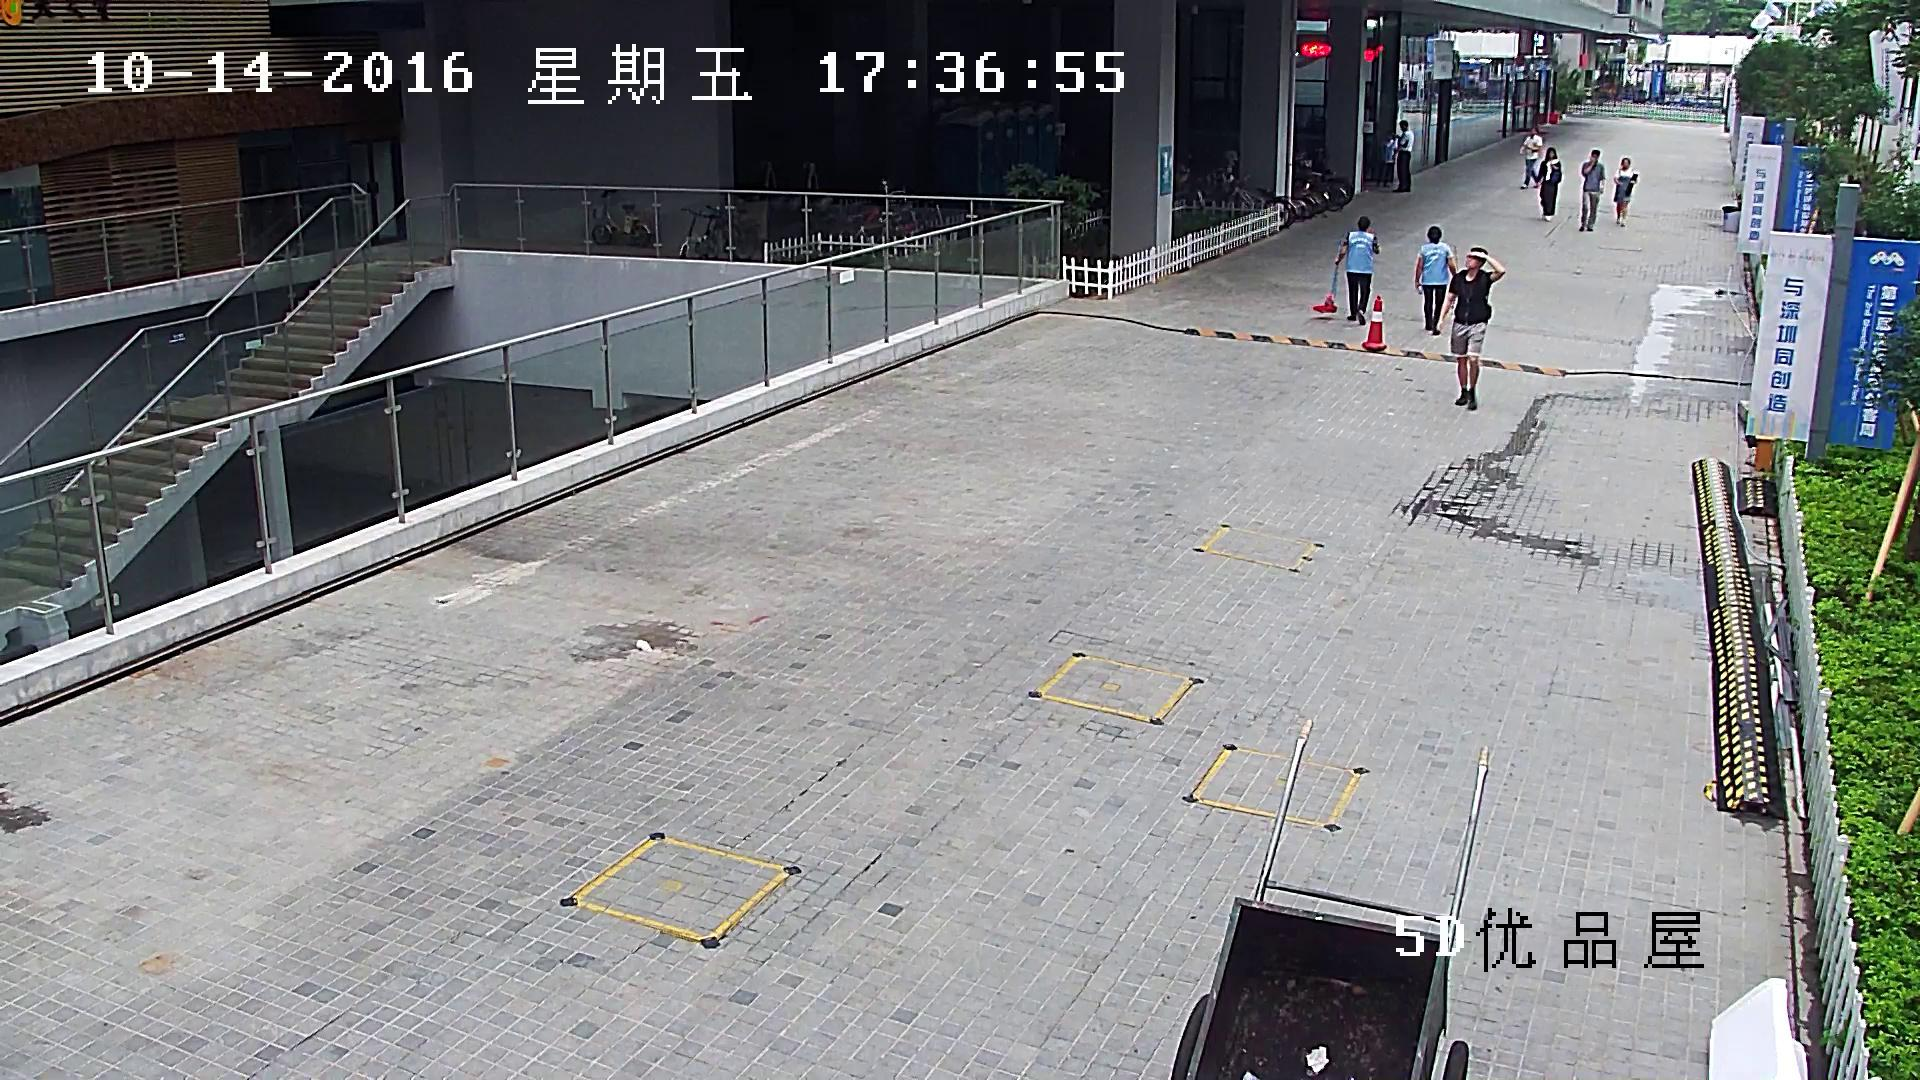person: (1436, 246, 1505, 410), (1314, 214, 1379, 326), (1412, 225, 1456, 333), (1336, 217, 1379, 326), (1533, 147, 1561, 221), (1580, 149, 1604, 231), (1614, 157, 1638, 227), (1392, 120, 1414, 192), (1519, 126, 1543, 189), (1375, 135, 1395, 189)
